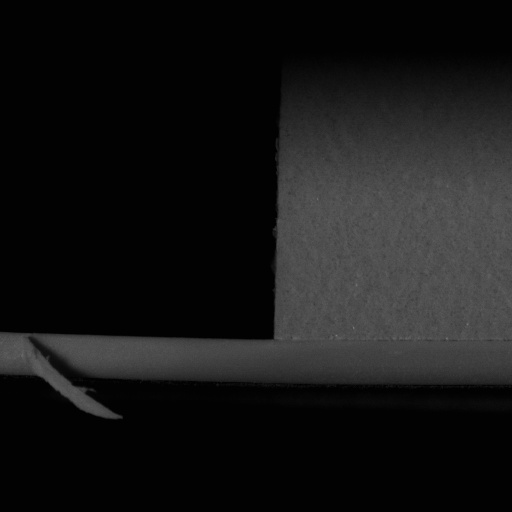changdai: (0, 331, 272, 388)
